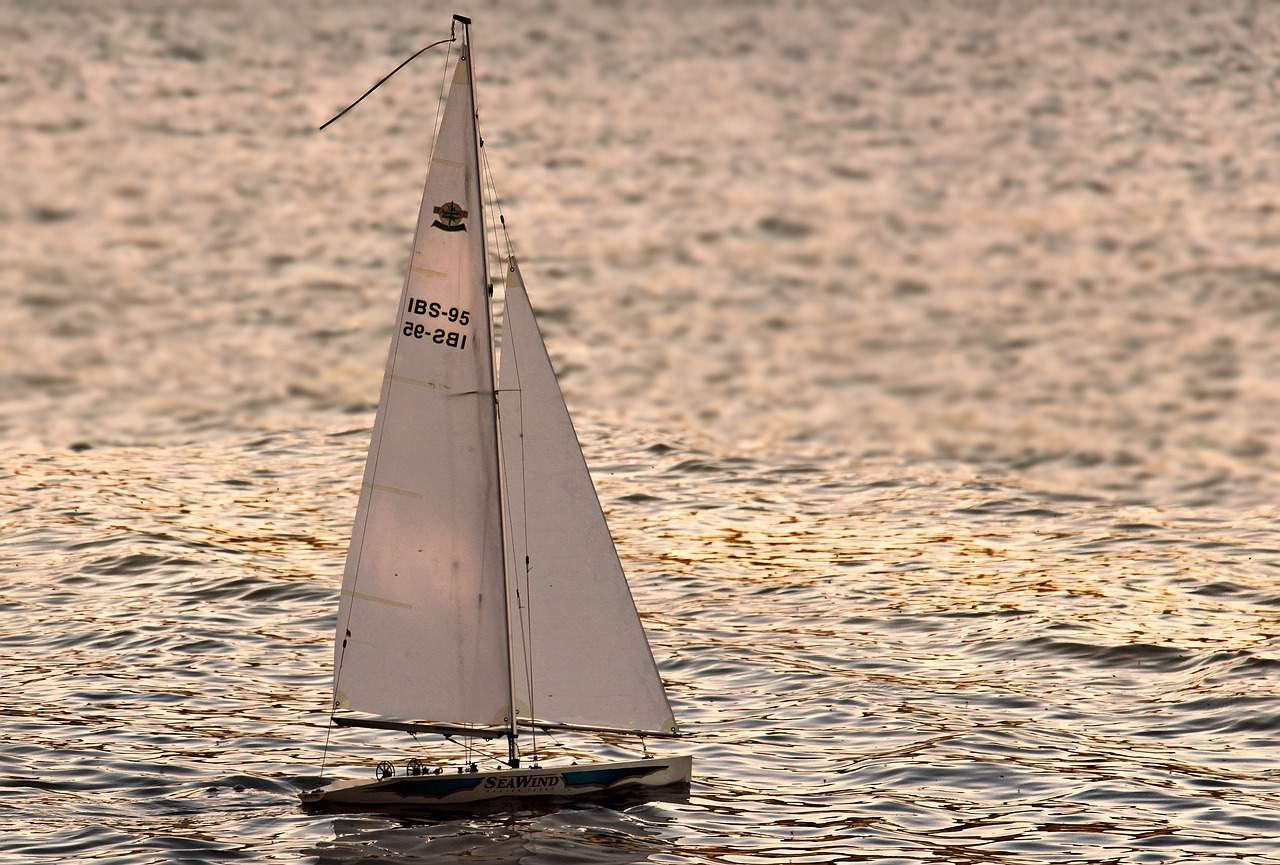Ship: (296, 15, 693, 817)
